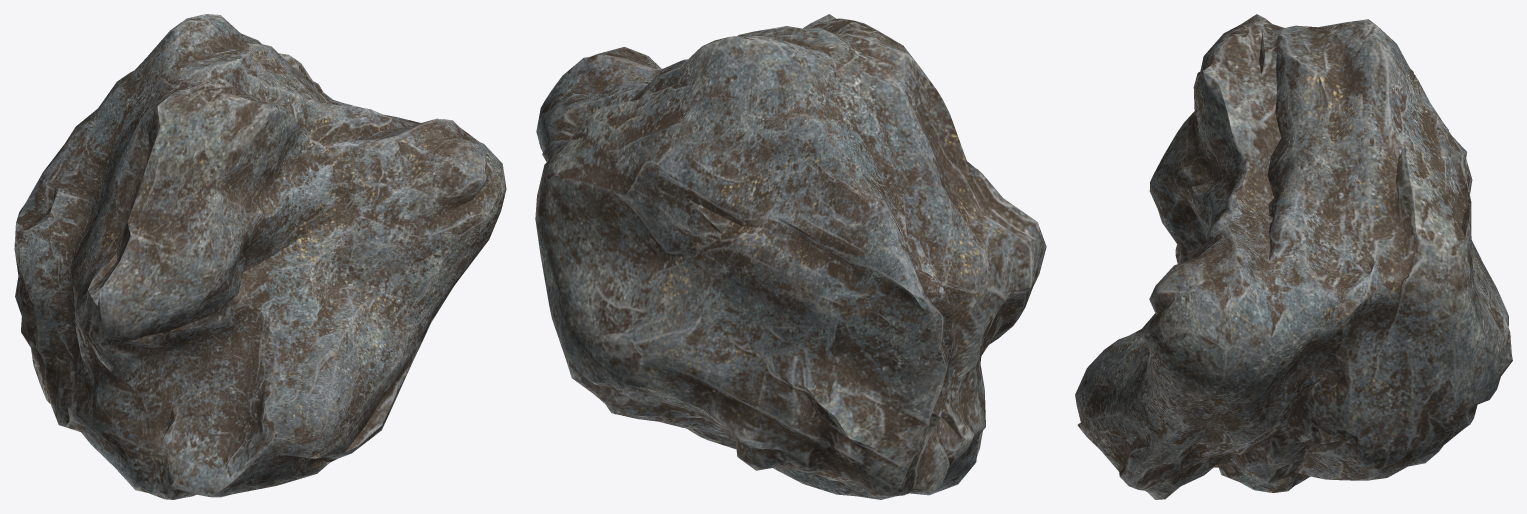
The model's file is Small Rock.glb.
The picture shows the model from 3 angles, left to right: view 1: azimuth 30°, elevation 25°; view 2: azimuth 150°, elevation 25°; view 3: azimuth 270°, elevation 25°; orthographic projection. The views are drawn at different scales.
Visible parts, largest first — view 1: g; view 2: g; view 3: g.
Part boxes in pixels (x1,y1,x2,y2): g: (14,14,506,499); g: (535,14,1046,499); g: (1075,14,1512,499).
Bounding box in the file's own units: 2 × 1.86 × 1.57.
Materials: 1 (1 with a texture image).
